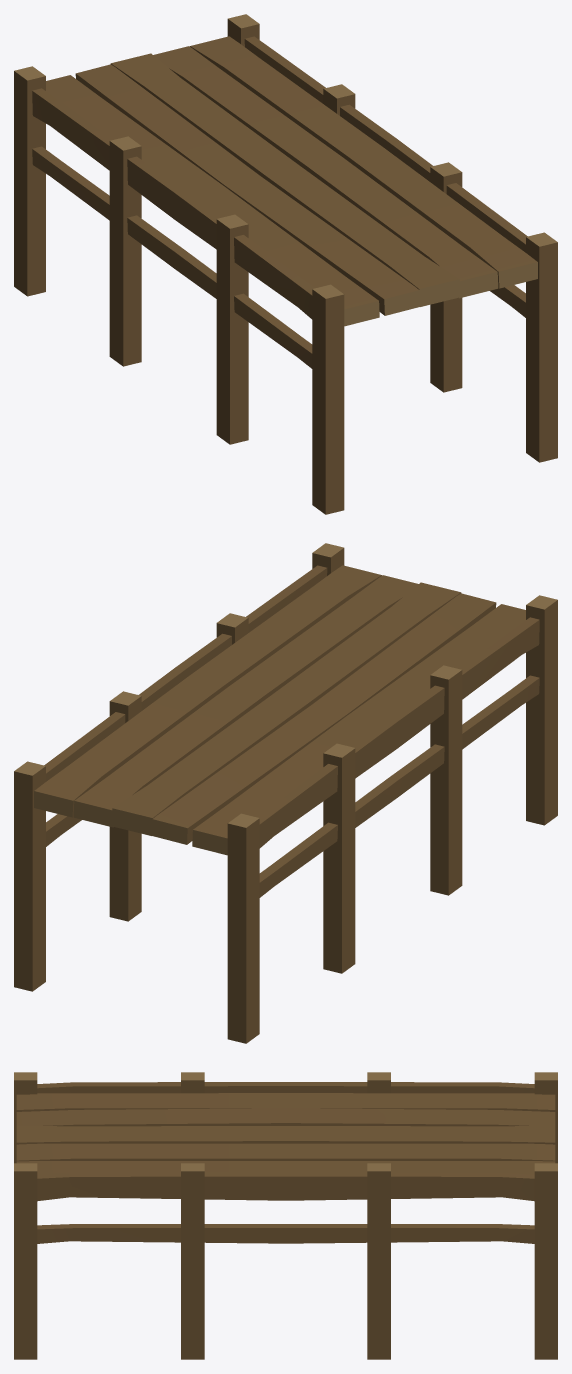
File: Port.glb
The picture shows the model from 3 angles, top to bottom: view 1: azimuth 30°, elevation 25°; view 2: azimuth 150°, elevation 25°; view 3: azimuth 270°, elevation 25°; orthographic projection. The views are drawn at different scales.
Visible parts, largest first — view 1: Port_Merged; view 2: Port_Merged; view 3: Port_Merged.
Part boxes in pixels (x1,y1,x2,y2): Port_Merged: (14,14,557,514); Port_Merged: (14,543,557,1043); Port_Merged: (14,1072,557,1359).
Bounding box in the file's own units: 0.5243 × 0.4658 × 1.22.
